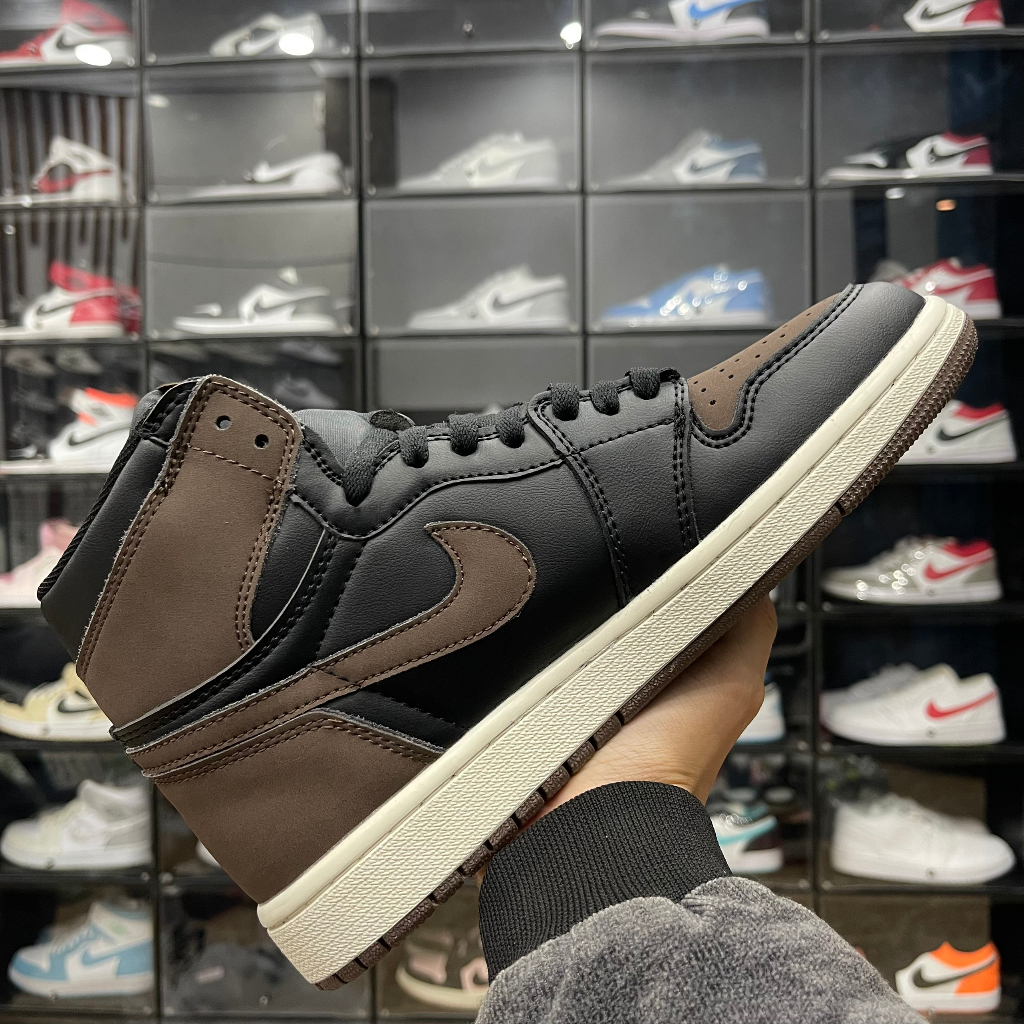sneakers: (34, 274, 976, 991)
